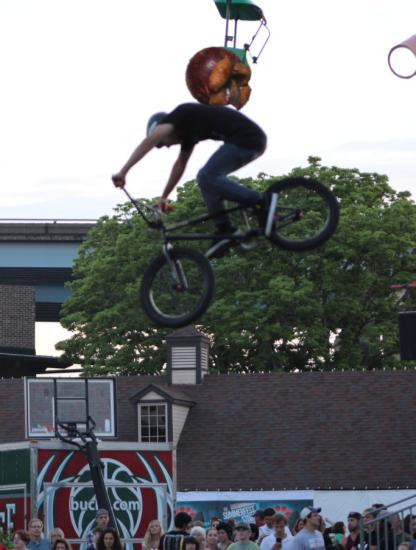Mangostan: (183, 43, 257, 117)
